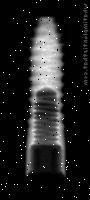BioHorizons: (23, 15, 67, 176)
